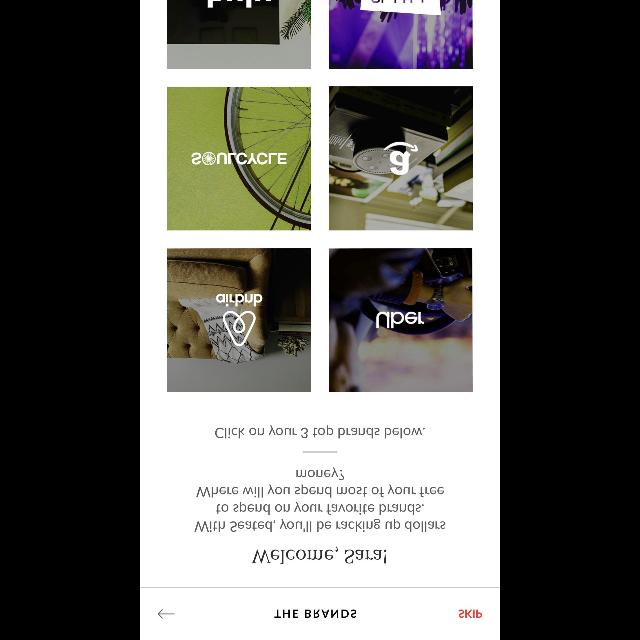icon: (158, 608, 176, 618)
image: (167, 248, 311, 392), (329, 248, 473, 392), (329, 86, 473, 230), (168, 88, 312, 230), (329, 0, 473, 68), (168, 0, 310, 68), (192, 151, 286, 165), (222, 311, 255, 347), (384, 142, 418, 176)
text: (192, 467, 446, 533), (215, 425, 422, 439), (252, 546, 386, 564), (275, 608, 357, 618), (376, 312, 424, 328), (216, 293, 262, 307), (459, 610, 483, 618)
